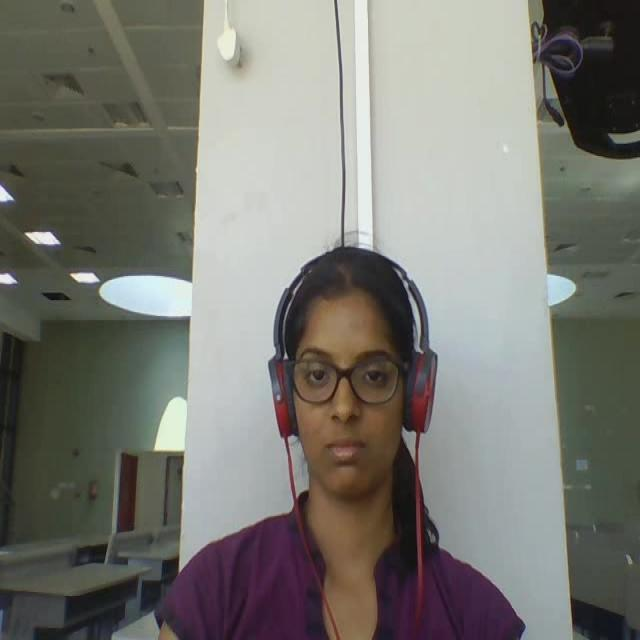Engaged: (246, 239, 464, 533)
